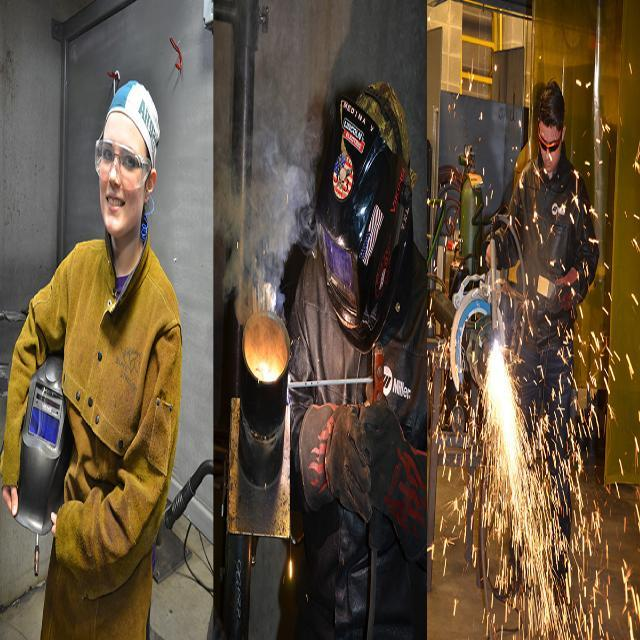with_helmet: (313, 92, 420, 403)
without_helmet: (94, 79, 160, 233), (525, 78, 570, 179)
